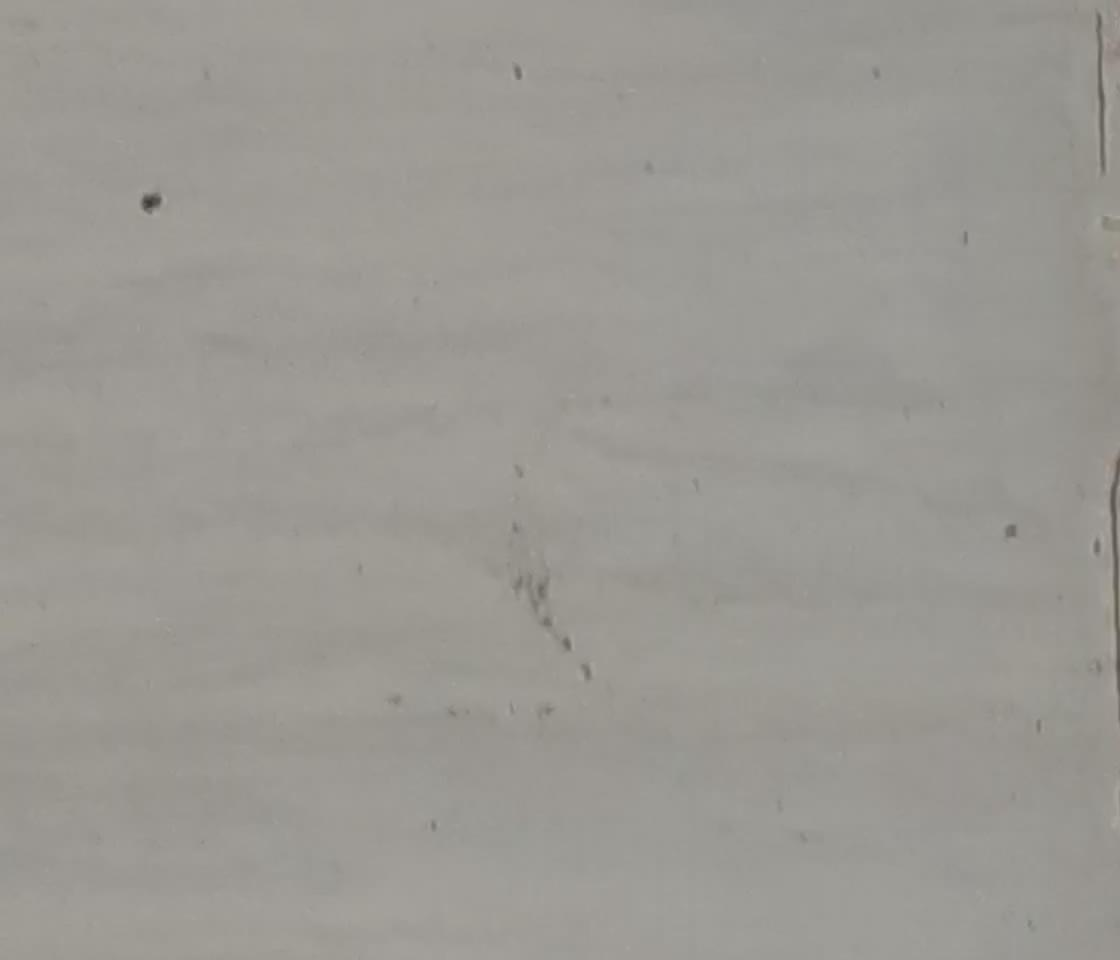scratch: (130, 187, 169, 218)
